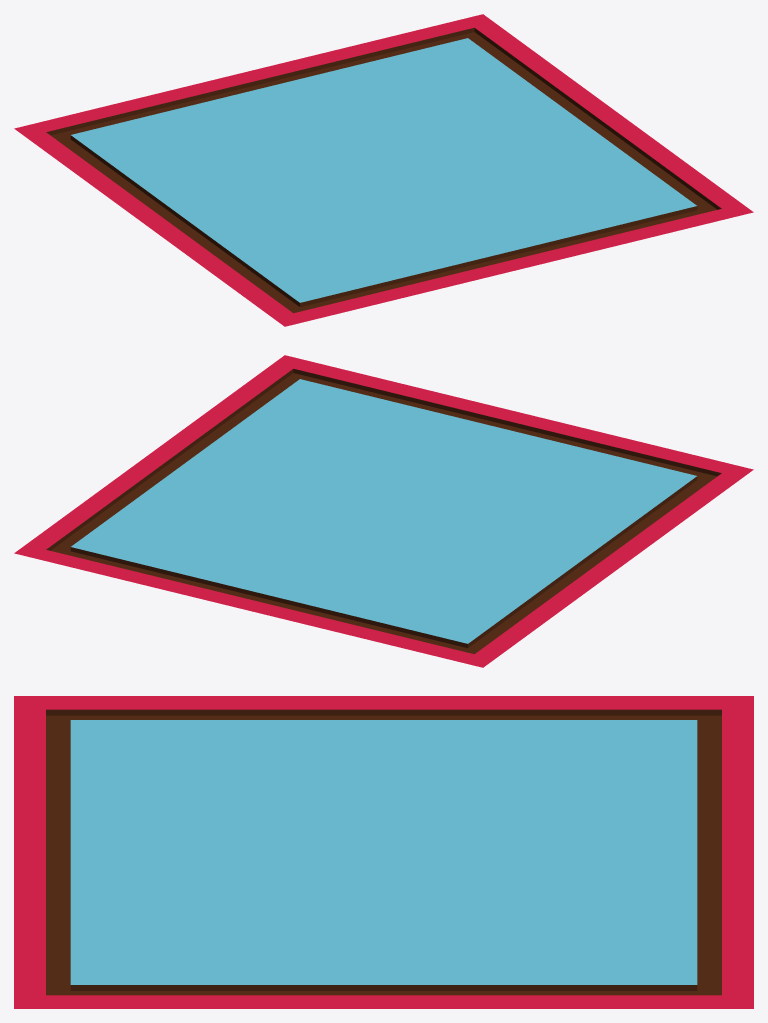
Rendered from BigWindow.fbx.
The picture shows the model from 3 angles, top to bottom: view 1: azimuth 30°, elevation 25°; view 2: azimuth 150°, elevation 25°; view 3: azimuth 270°, elevation 25°; orthographic projection. The views are drawn at different scales.
Parts seen in each view (by area): view 1: SilinkWindowed.001; view 2: SilinkWindowed.001; view 3: SilinkWindowed.001.
Boxes of the visible parts, box(x1,y1,x2,y2) form: SilinkWindowed.001: box(14, 14, 753, 326); SilinkWindowed.001: box(14, 355, 753, 667); SilinkWindowed.001: box(14, 696, 753, 1008).
Bounding box in the file's own units: 400 × 3.55 × 400.
